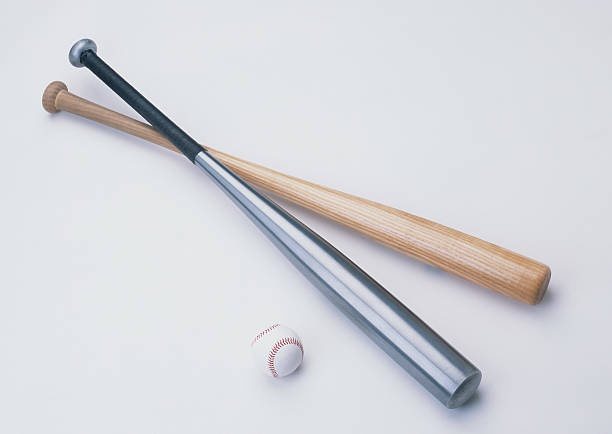bita: (72, 40, 480, 408), (49, 86, 556, 297)
